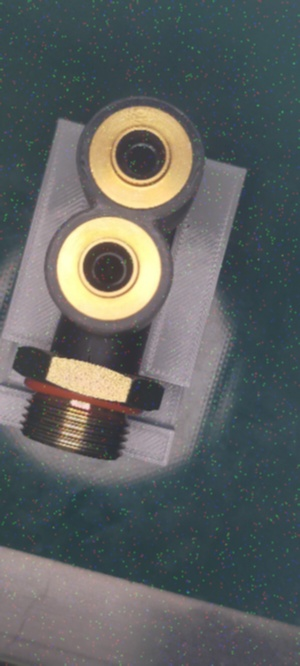craze: (82, 347, 99, 373)
